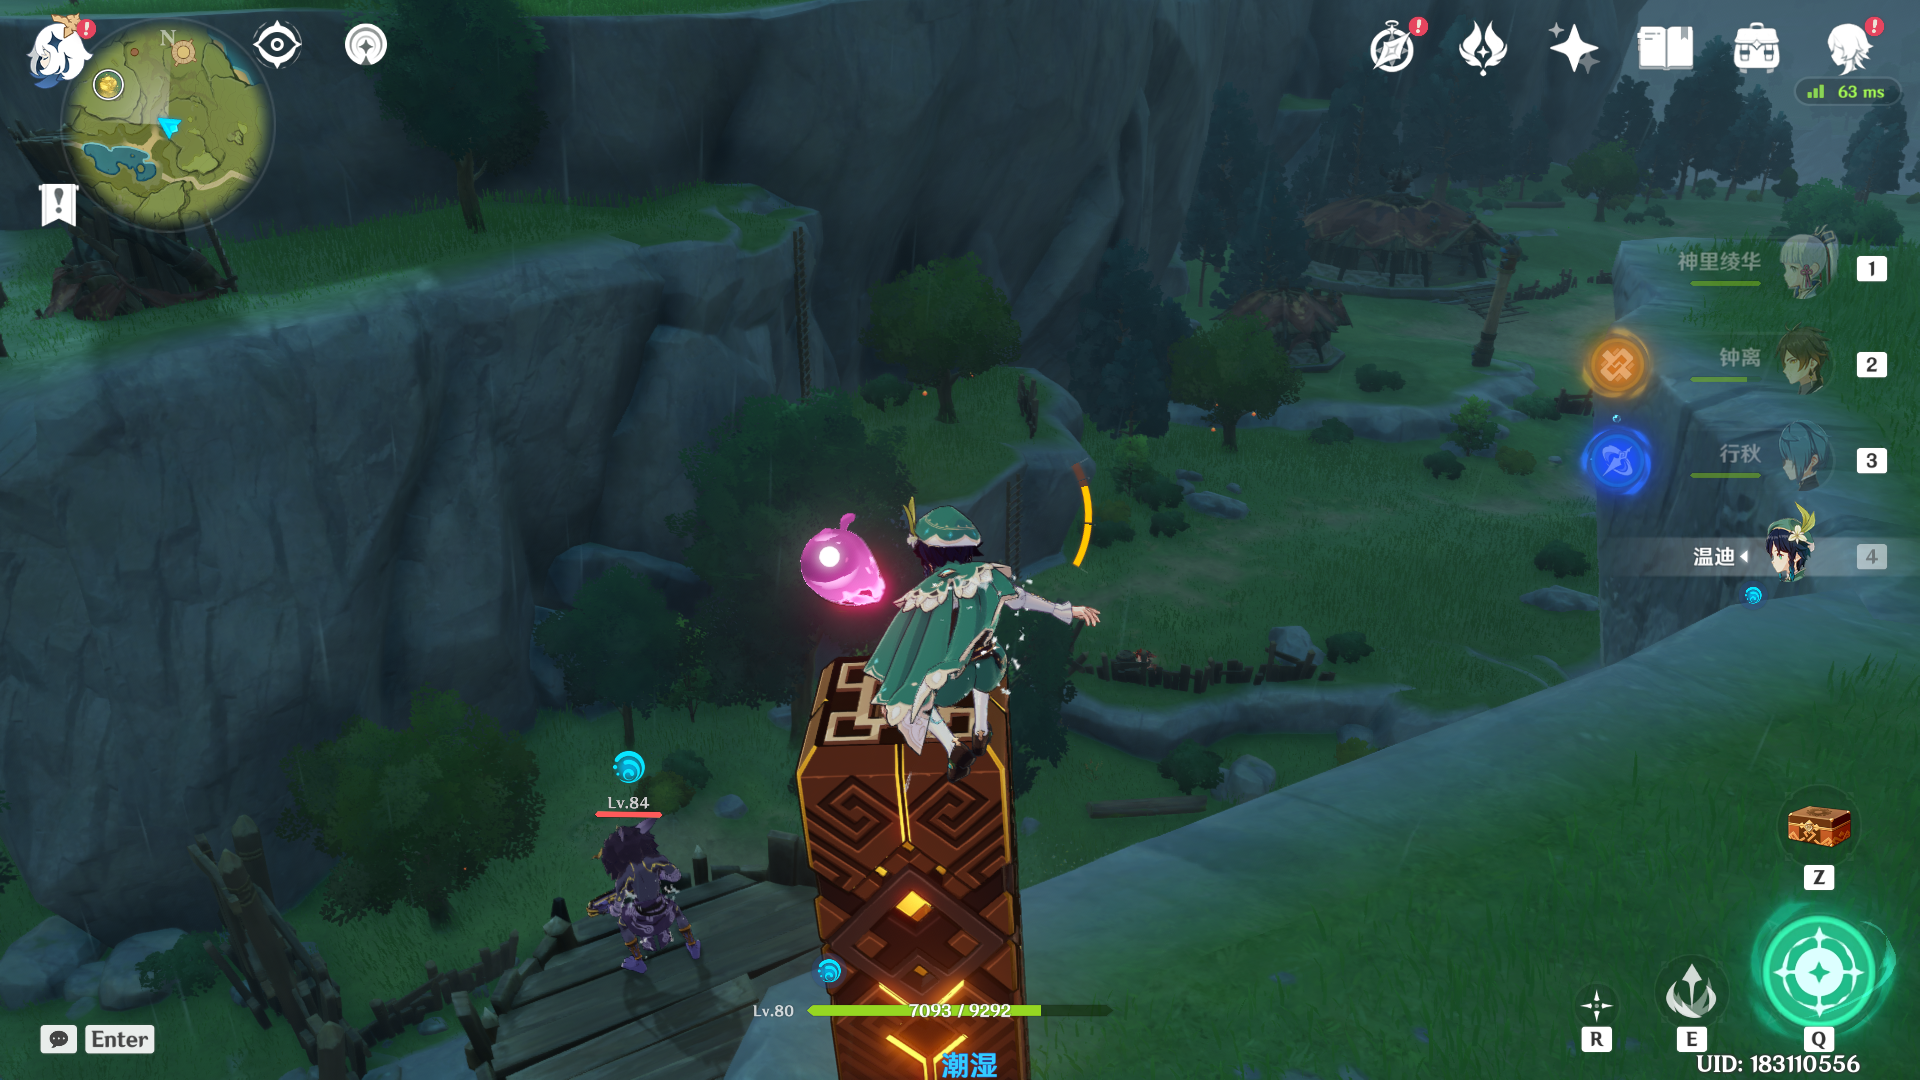character: (794, 467, 1093, 775)
hili: (558, 794, 756, 1009)
